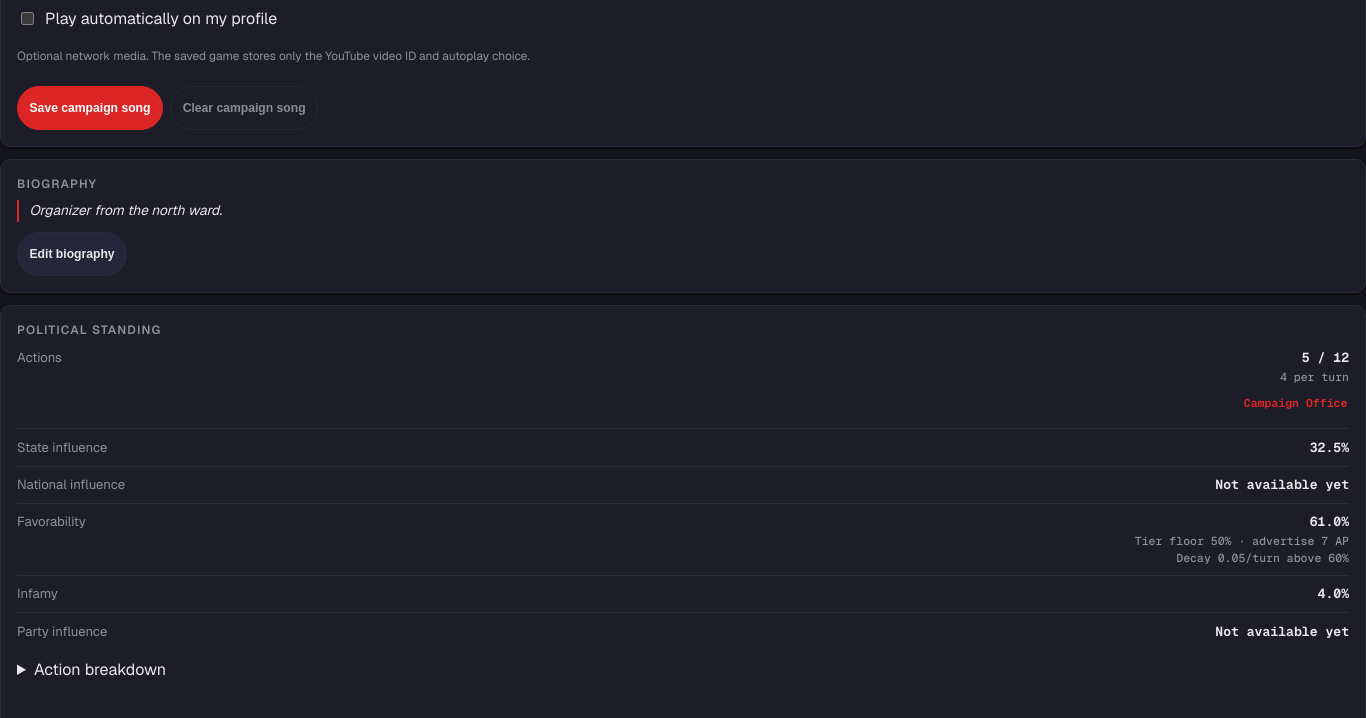
Test case: ProfilePanel › keeps the draft and reports when a biography save returns false
The width and height of the screenshot is (1366, 718).
(page scrolled)
Step 1. Click the button "Edit biography" → click(72, 254), box [17, 232, 127, 276]
(page scrolled)
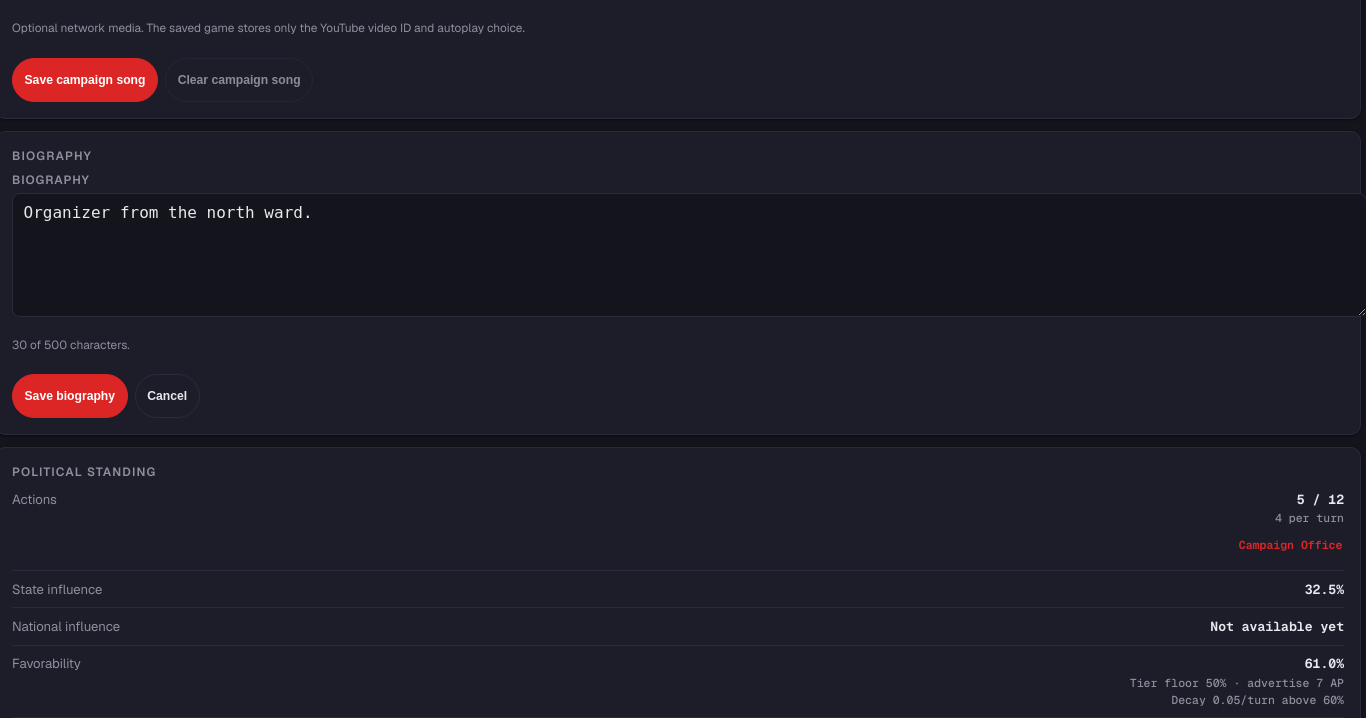
Step 2. Replace the text in the text box labelled "Biography" with "Unsaved draft." → (689, 255), box [12, 193, 1365, 317]
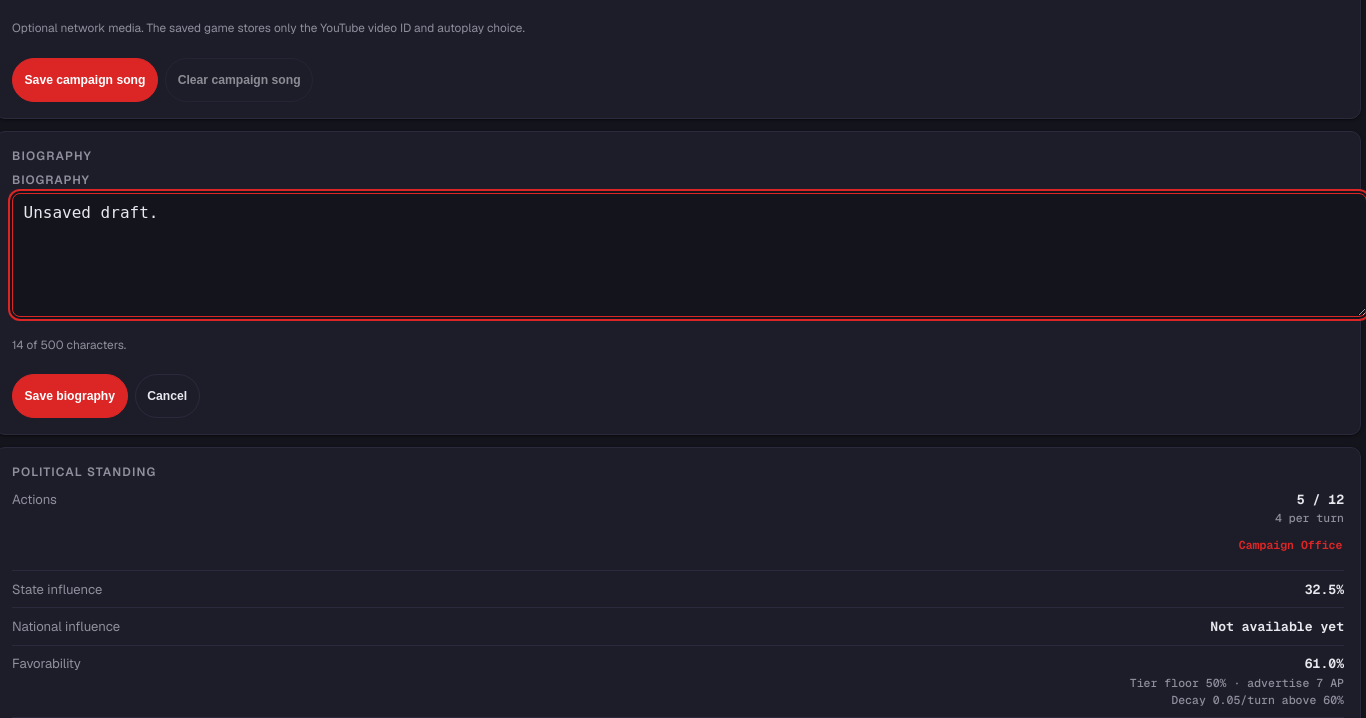
Step 3. Click the button "Save biography" → click(70, 396), box [12, 374, 128, 418]
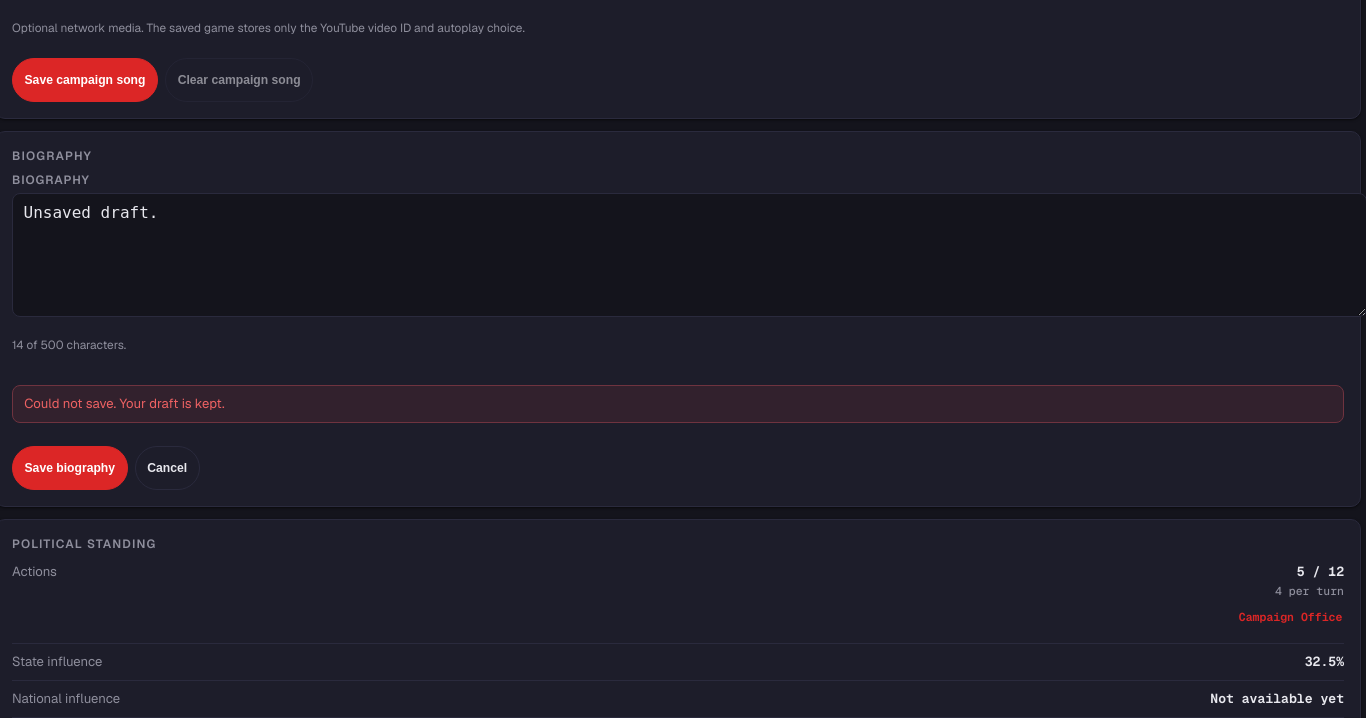
Check: the message "Could not save. Your draft is kept." is shown, box [12, 384, 1344, 423]
